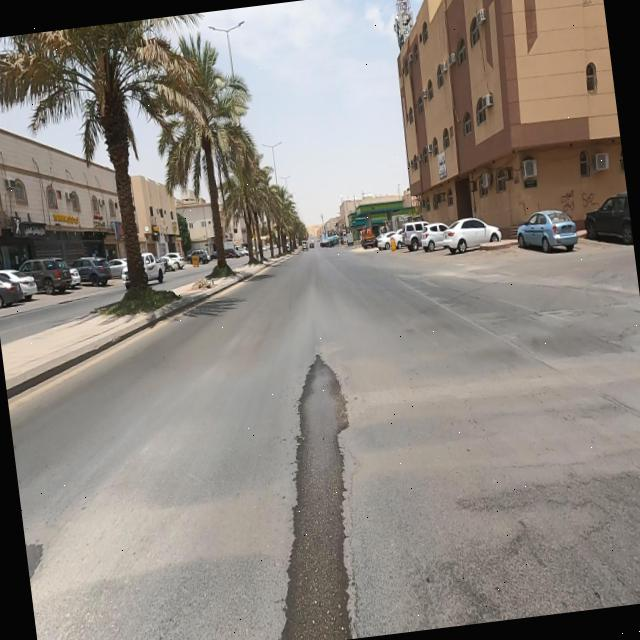Graffiti: (560, 189, 578, 215), (583, 191, 601, 211)
